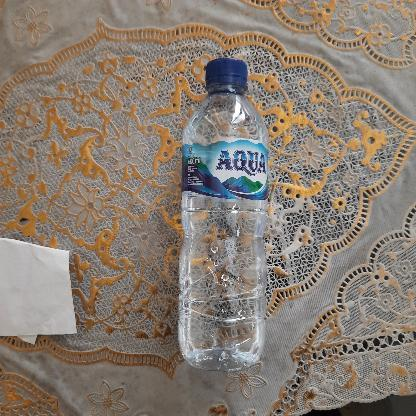Plastic Bottle: (177, 56, 271, 374)
